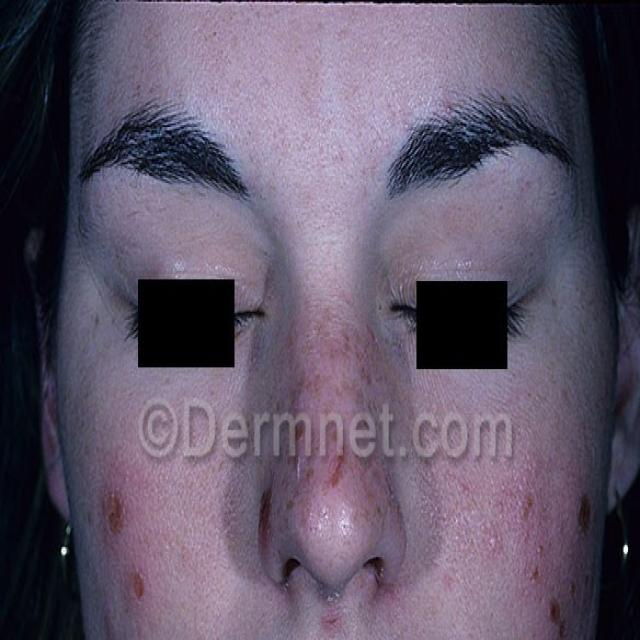Acne: (267, 354, 402, 612), (484, 457, 632, 640), (91, 474, 171, 640)
